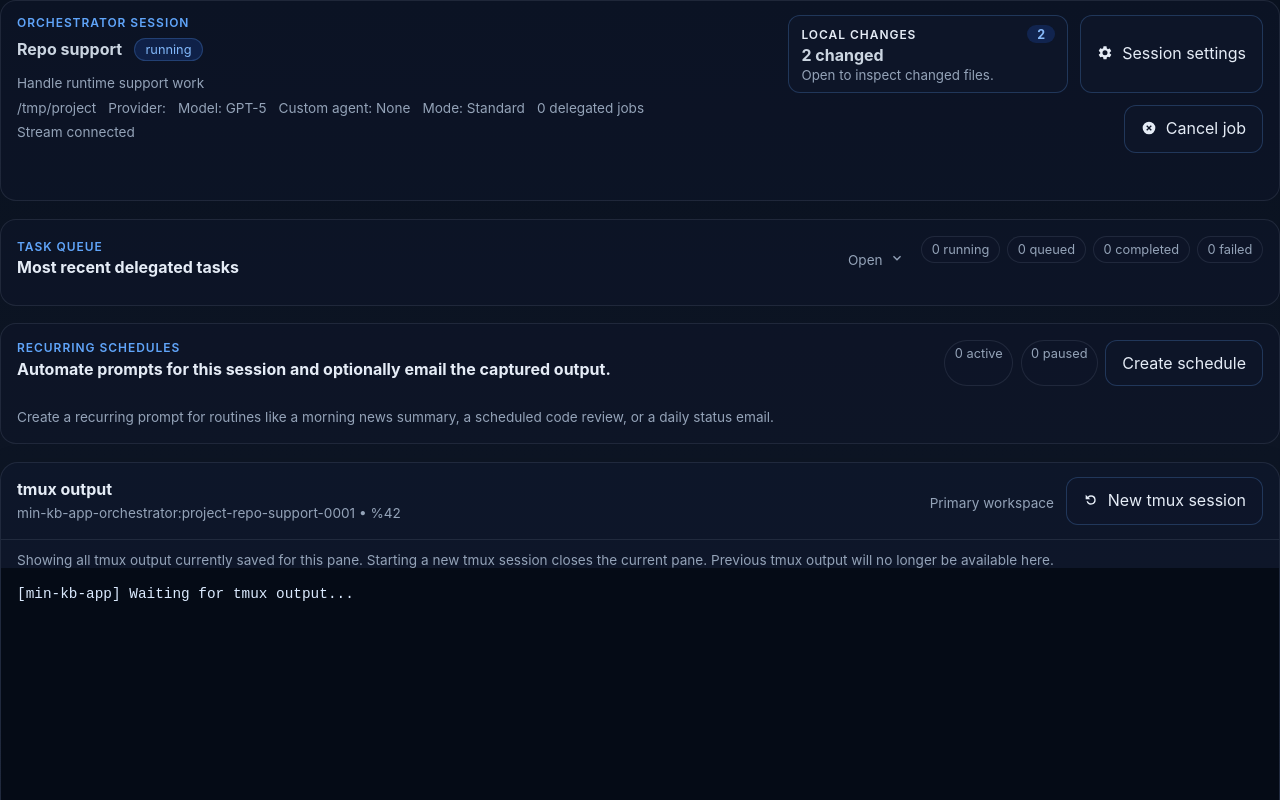
Test: OrchestratorPane › shows local changes in a panel and renders a selected diff in a modal
The image size is (1280, 800).
Click the button "Local changes 2 2 changed Open to inspect changed files.": (859, 34) [788,15,1068,93]
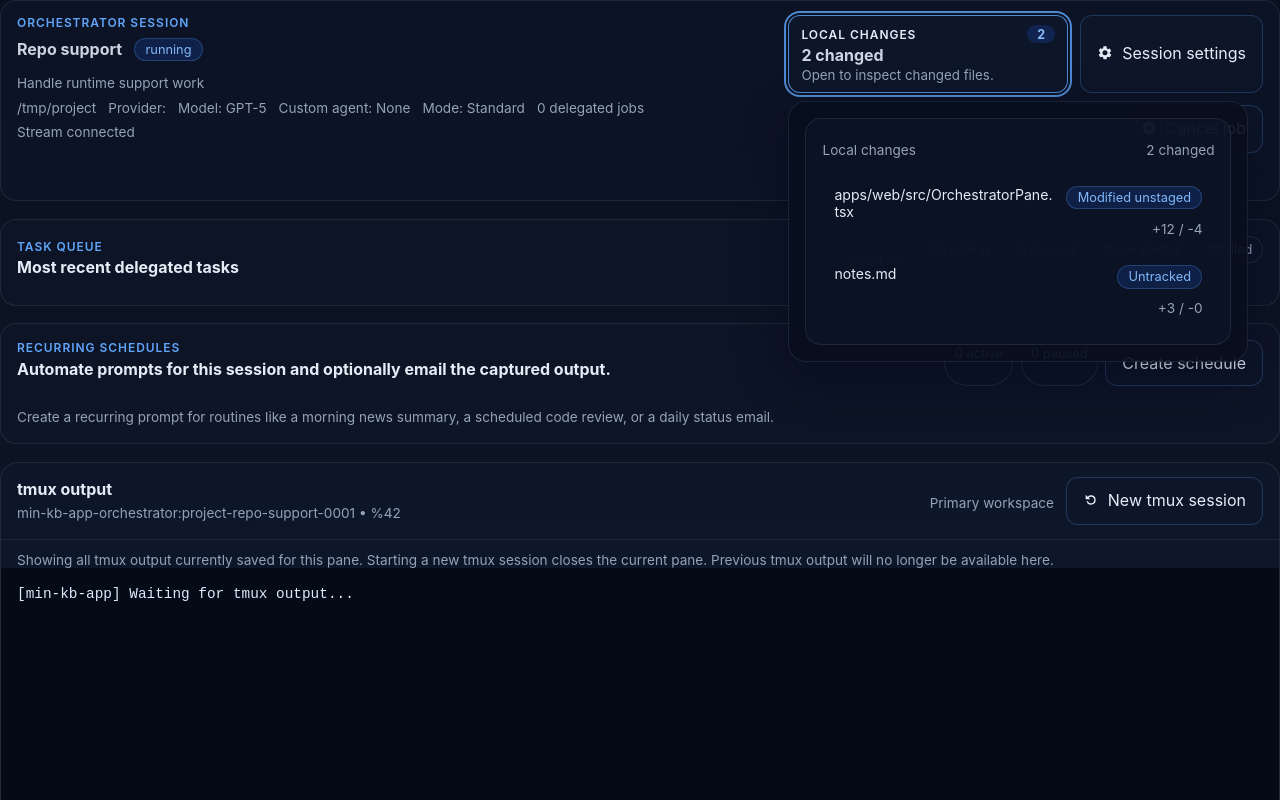
expect the button "apps/web/src/OrchestratorPane.tsx Modified unstaged +12 / -4" is shown: met
expect the text "+12 / -4" is shown: met, box [1152,220,1202,239]
Click the button "apps/web/src/OrchestratorPane.tsx Modified unstaged +12 / -4": (943, 194) [822,176,1214,249]
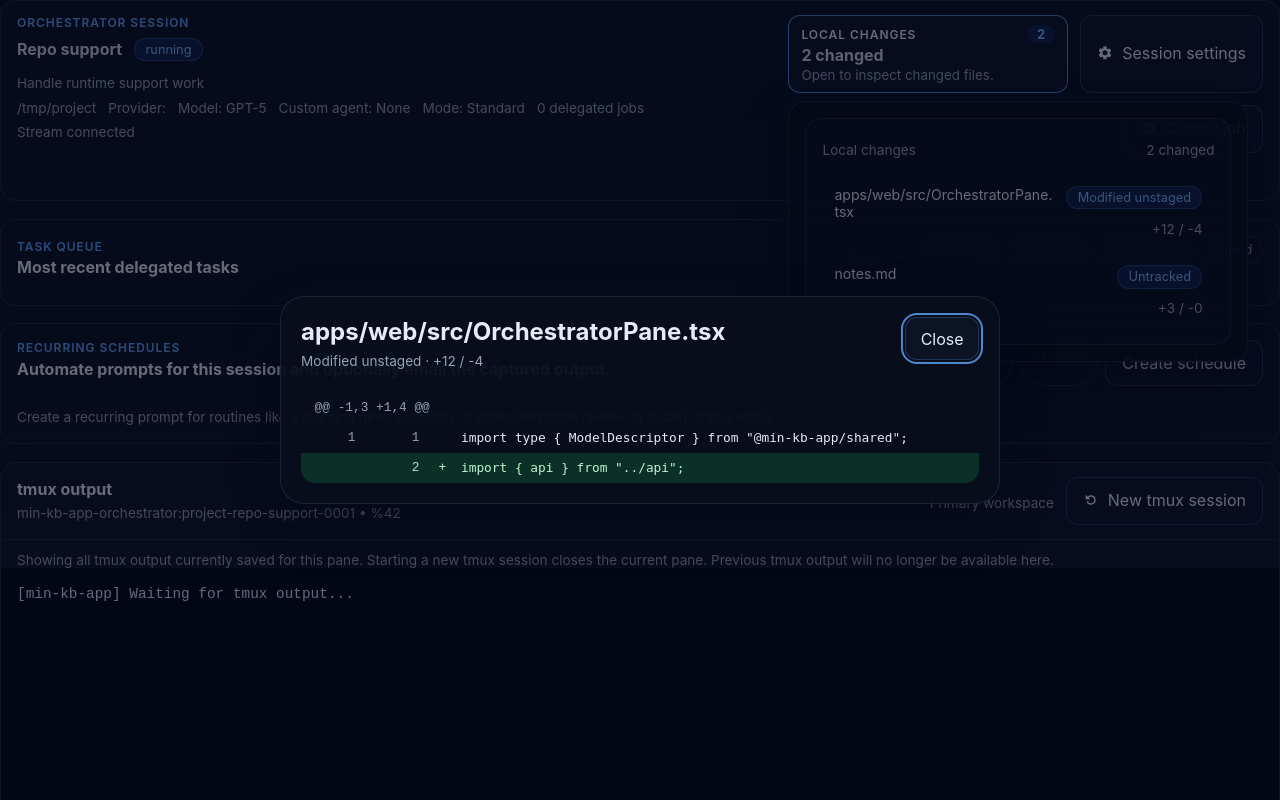
expect the dialog "apps/web/src/OrchestratorPane.tsx" is shown: met, box [280,296,1000,504]
expect the text "@@ -1,3 +1,4 @@" is shown: met, box [315,400,430,415]
expect the text "import { api } from \"../api\";" is shown: met, box [461,460,684,475]
